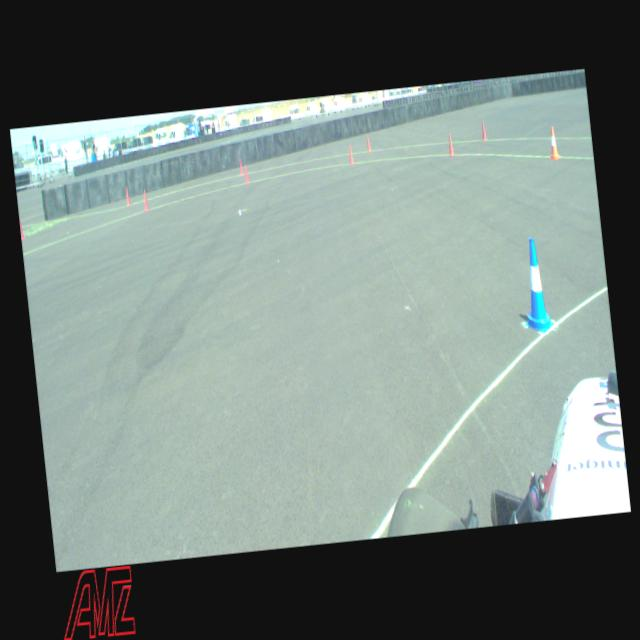blue_cone: (516, 236, 555, 334)
orange_cone: (546, 126, 560, 159)
